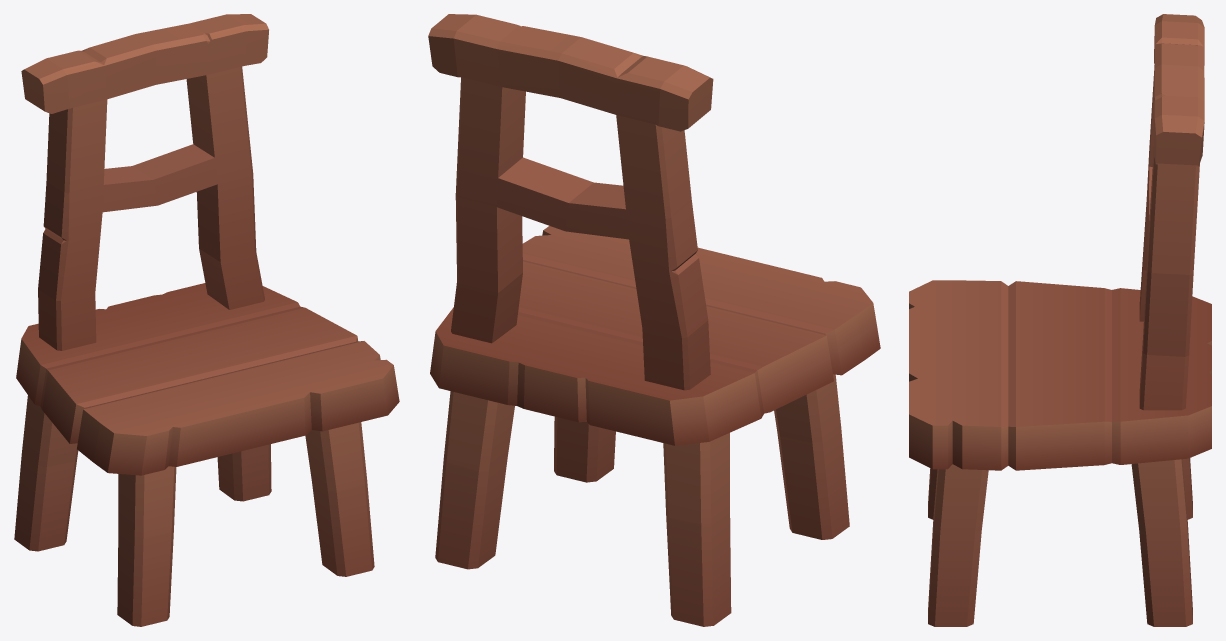
Rendered from chair_small.glb.
The picture shows the model from 3 angles, left to right: view 1: azimuth 30°, elevation 25°; view 2: azimuth 150°, elevation 25°; view 3: azimuth 270°, elevation 25°; orthographic projection. The views are drawn at different scales.
Parts seen in each view (by area): view 1: wooden_seat; view 2: wooden_seat; view 3: wooden_seat.
Boxes of the visible parts, box(x1,y1,x2,y2) form: wooden_seat: box(14, 14, 399, 626); wooden_seat: box(428, 14, 880, 626); wooden_seat: box(909, 14, 1211, 626).
Size of the model in its own units: 1.7 by 2.61 by 1.43.
1 material, 1 textured.
